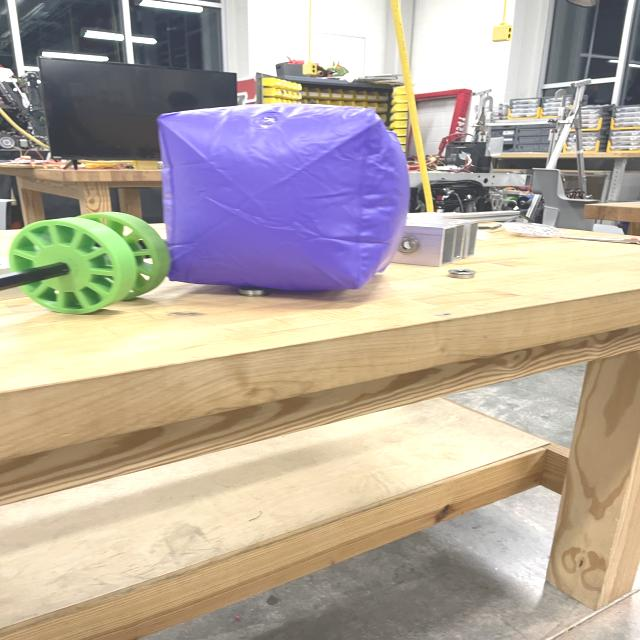frc_cube: (162, 98, 427, 301)
